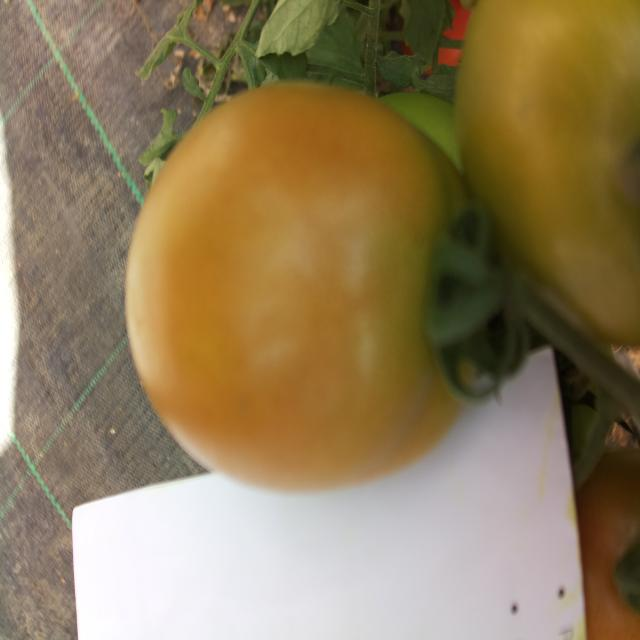sari: (126, 82, 478, 474)
